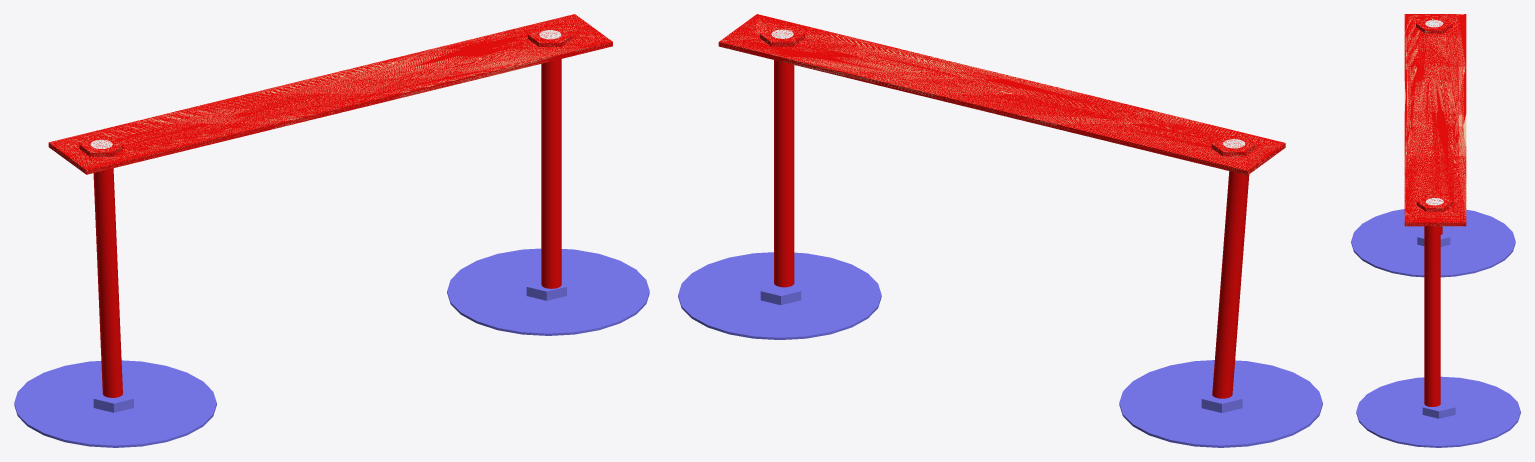
Rendered from path.dae.
3 renders of one model, left to right at view 1: azimuth 30°, elevation 25°; view 2: azimuth 150°, elevation 25°; view 3: azimuth 270°, elevation 25°, orthographic. The views are drawn at different scales.
Parts seen in each view (by area): view 1: SketchUp_002, SketchUp_011, SketchUp_015, SketchUp_003, SketchUp_010, SketchUp_018, SketchUp_014, SketchUp_004; view 2: SketchUp_002, SketchUp_015, SketchUp_011, SketchUp_010, SketchUp_003, SketchUp_014, SketchUp_018, SketchUp_004; view 3: SketchUp_002, SketchUp_011, SketchUp_015, SketchUp_003, SketchUp_014, SketchUp_004, SketchUp_006, SketchUp_018.
Part boxes in pixels (bbox=[...]): SketchUp_002: bbox=[48, 14, 612, 174]; SketchUp_011: bbox=[447, 248, 649, 335]; SketchUp_015: bbox=[14, 360, 216, 447]; SketchUp_003: bbox=[541, 59, 561, 288]; SketchUp_010: bbox=[93, 168, 122, 397]; SketchUp_018: bbox=[93, 386, 133, 412]; SketchUp_014: bbox=[526, 273, 566, 300]; SketchUp_004: bbox=[79, 136, 123, 156]; SketchUp_002: bbox=[718, 14, 1285, 175]; SketchUp_015: bbox=[1119, 360, 1322, 447]; SketchUp_011: bbox=[678, 252, 881, 339]; SketchUp_010: bbox=[1212, 171, 1249, 398]; SketchUp_003: bbox=[774, 60, 794, 287]; SketchUp_014: bbox=[760, 278, 801, 305]; SketchUp_018: bbox=[1201, 386, 1242, 412]; SketchUp_004: bbox=[1211, 135, 1256, 156]; SketchUp_002: bbox=[1404, 14, 1466, 226]; SketchUp_011: bbox=[1356, 376, 1520, 447]; SketchUp_015: bbox=[1351, 209, 1515, 277]; SketchUp_003: bbox=[1424, 226, 1440, 406]; SketchUp_014: bbox=[1422, 396, 1455, 418]; SketchUp_004: bbox=[1416, 17, 1452, 33]; SketchUp_006: bbox=[1416, 195, 1452, 211]; SketchUp_018: bbox=[1417, 227, 1450, 246].
Size of the model in its own units: 1.39 by 0.4125 by 0.5745.
